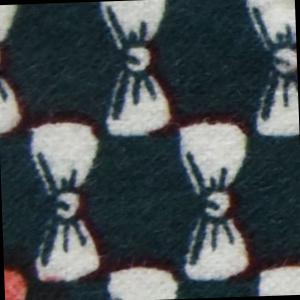Stain: (4, 240, 75, 300)
